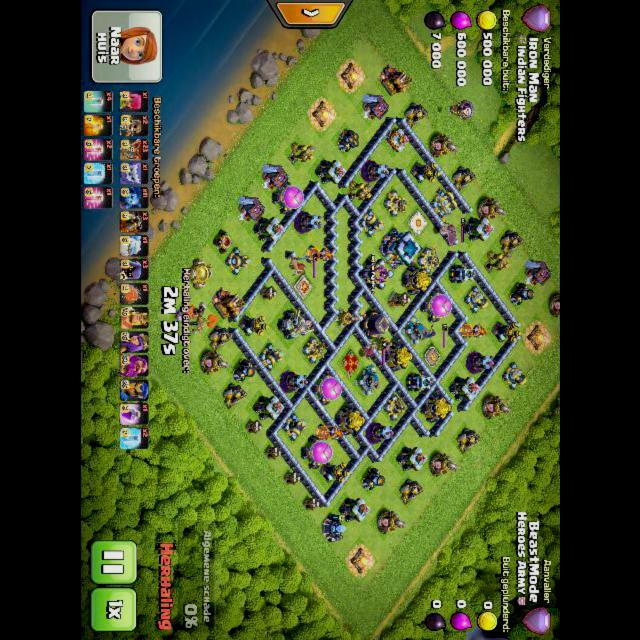AD: (238, 314, 270, 336), (410, 162, 442, 183), (319, 462, 351, 483), (491, 322, 522, 343)
AirSweeper: (333, 308, 360, 328), (371, 334, 392, 354)
BombTower: (406, 373, 435, 391), (449, 266, 477, 283)
Canon: (430, 189, 457, 217), (225, 247, 251, 275), (258, 343, 283, 371), (502, 362, 527, 390), (464, 285, 489, 313), (359, 209, 384, 237), (283, 413, 307, 441)
ClanCastle: (359, 259, 395, 290)
Eagle: (277, 310, 314, 339)
Inferno: (305, 245, 333, 263), (459, 323, 487, 340), (315, 424, 342, 441)
KingPad: (294, 275, 312, 299)
Mortar: (509, 281, 534, 305), (360, 466, 385, 490), (232, 358, 256, 382), (336, 128, 359, 152)
QueenPad: (341, 350, 360, 376)
RcPad: (424, 346, 439, 366)
Scattershot: (402, 314, 429, 344), (355, 364, 380, 395)
TH13: (379, 231, 422, 266)
WardenPad: (409, 212, 426, 234)
WizzTower: (293, 212, 322, 233), (366, 422, 394, 443), (361, 161, 389, 182), (280, 371, 308, 391), (467, 352, 495, 372)
Xbow: (384, 189, 410, 217), (302, 336, 326, 364), (417, 247, 441, 275), (384, 393, 408, 421)
